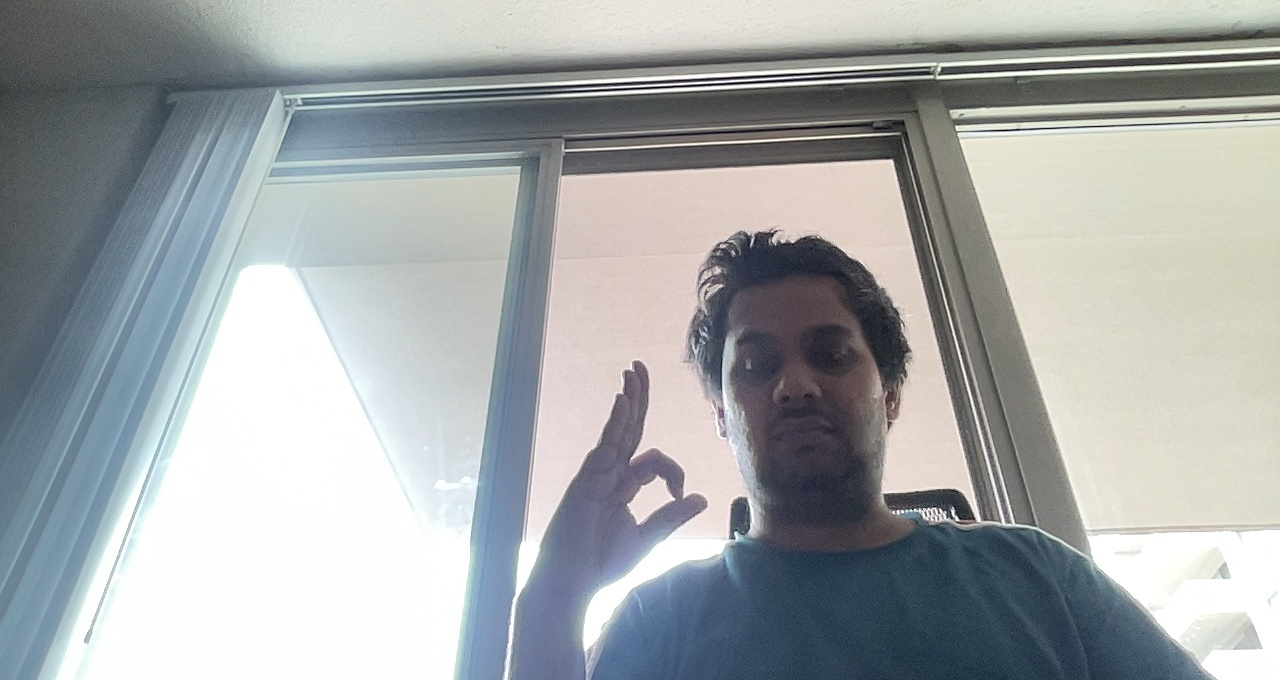ok: (555, 357, 709, 589)
